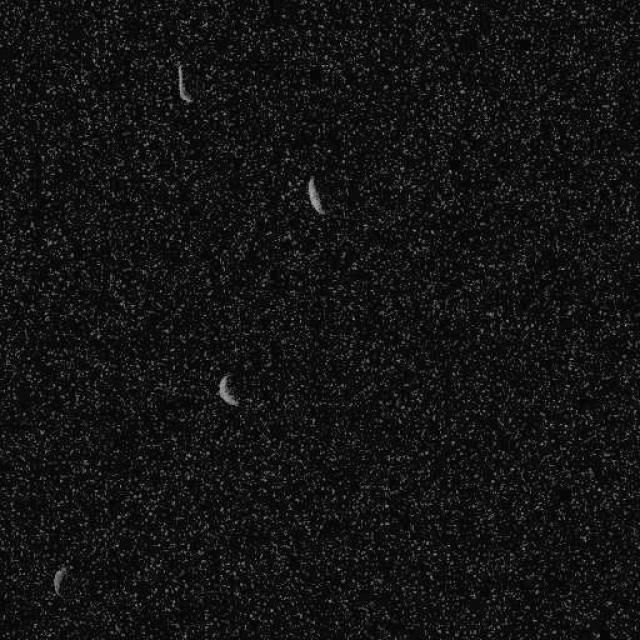D2: (216, 372, 240, 408), (305, 175, 326, 215), (175, 63, 193, 104), (51, 566, 65, 596)
